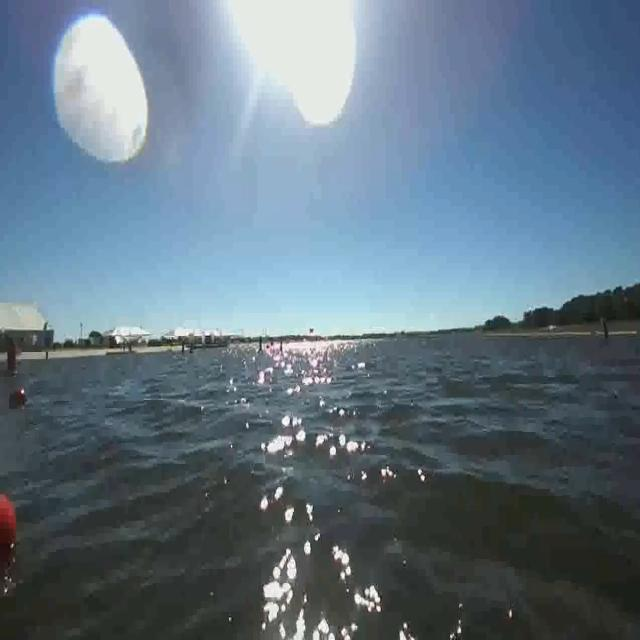red-buoy: (0, 494, 19, 552), (12, 388, 24, 408)
